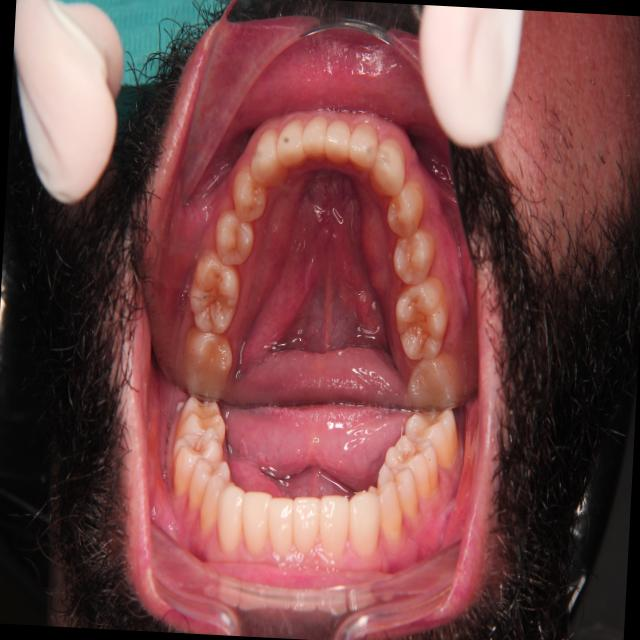tooth: (388, 267, 455, 372), (185, 248, 252, 346), (172, 314, 243, 404), (395, 348, 467, 409), (389, 221, 442, 296), (207, 205, 258, 277), (366, 121, 410, 203), (380, 173, 429, 244), (245, 127, 293, 190), (269, 113, 316, 174), (346, 114, 386, 183), (227, 163, 270, 225), (296, 108, 335, 174), (323, 110, 355, 168)
